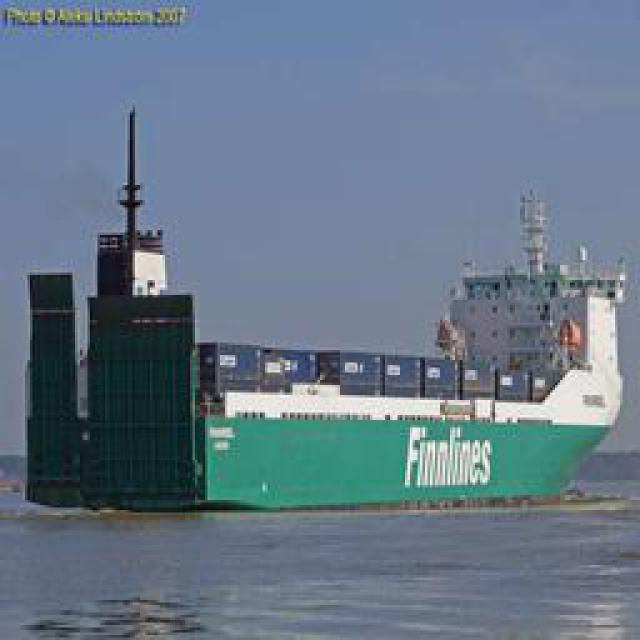Ship: (22, 211, 631, 512)
